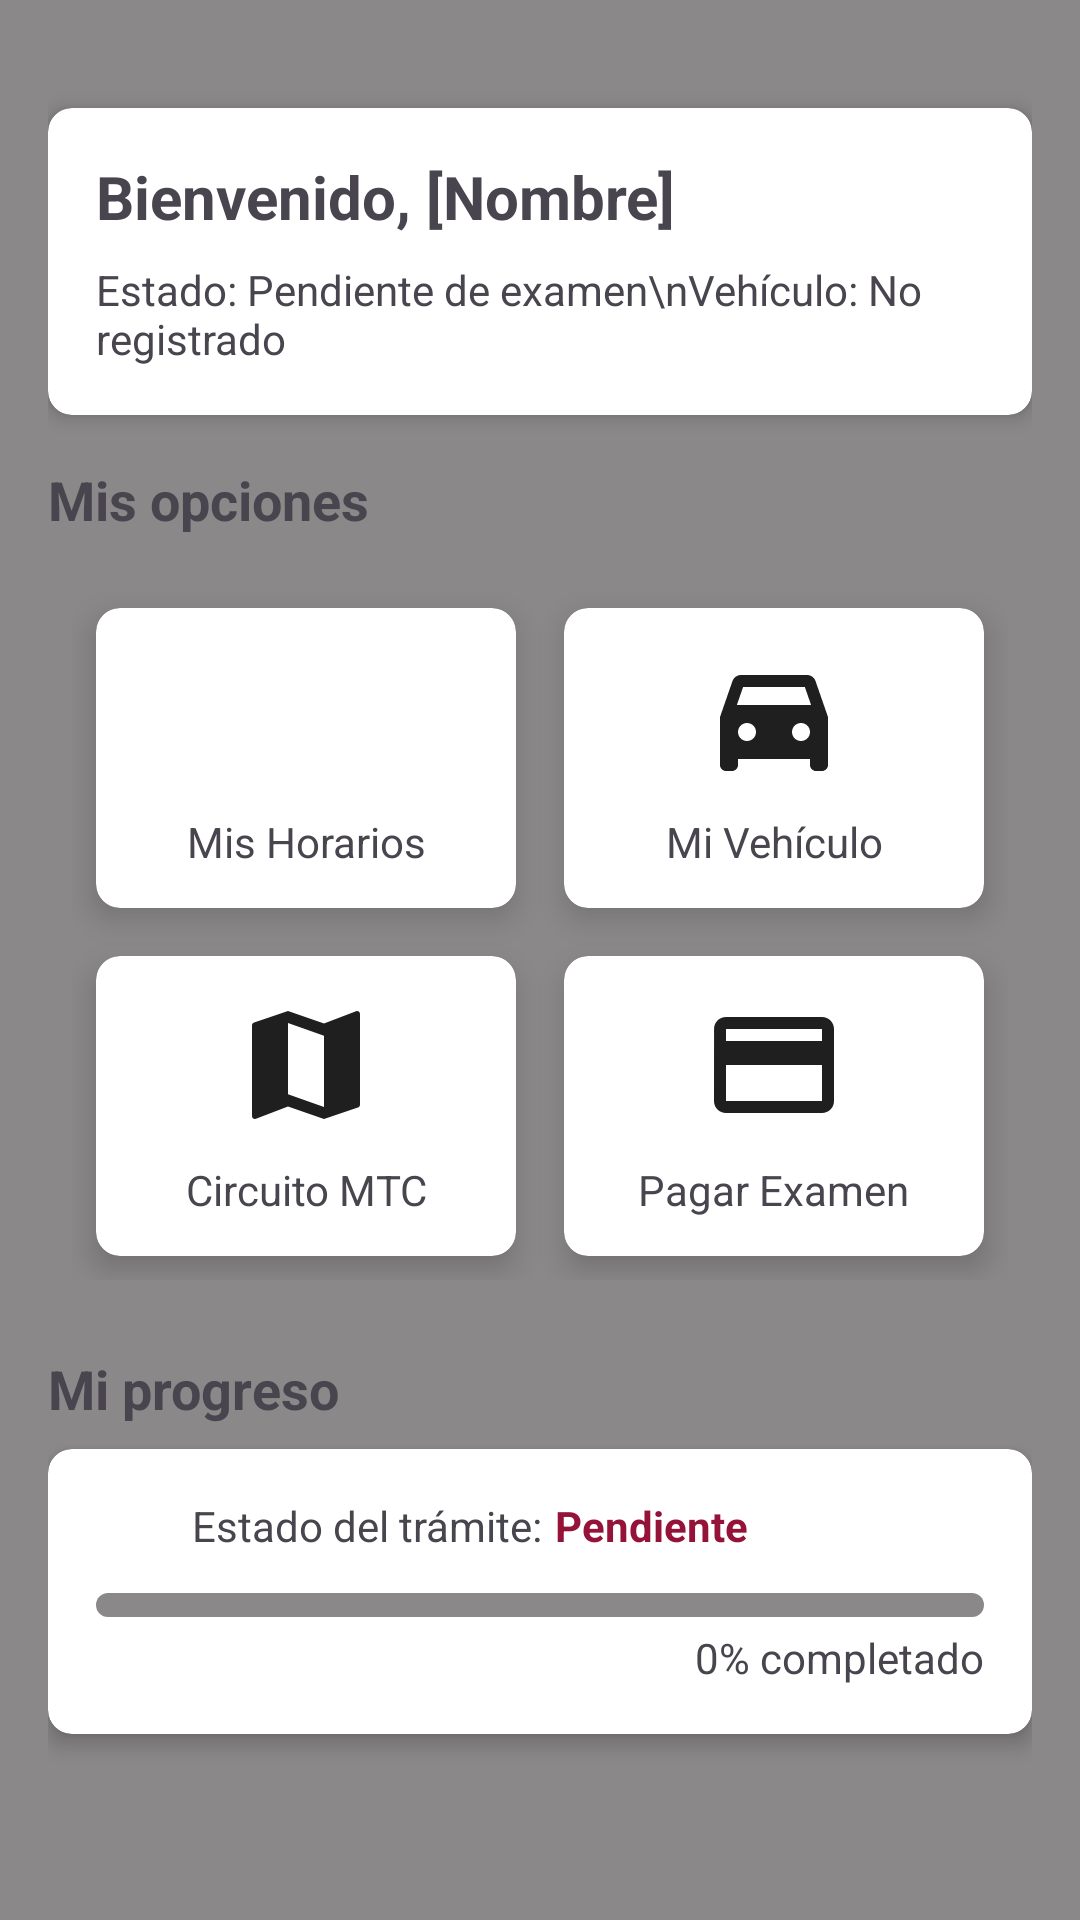

Icon click points for this 1080w x 1920h phone screenshot, format (x,y):
car: (774,723)
map: (306,1065)
payment: (774,1065)
